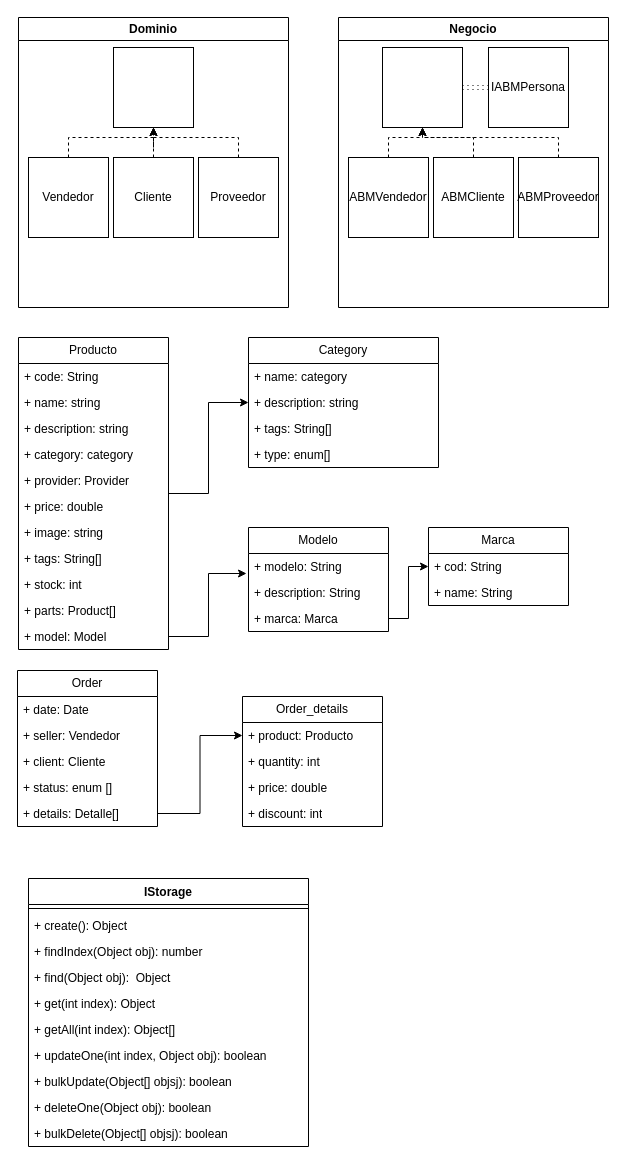
The diagram is 626 pixels wide and 1167 high, and some of its shapes have lost their labels. The centre of each missing label's shape, as x and y in pixels:
ABMPersona: (422,87)
Persona: (153,87)
